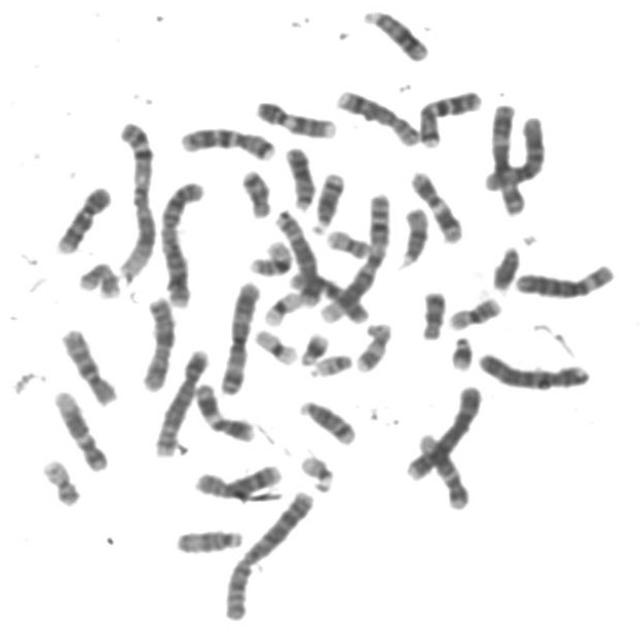A1: (314, 185, 394, 325), (111, 113, 160, 284)
A2: (218, 483, 318, 623), (154, 173, 208, 310)
A3: (214, 274, 264, 396), (485, 96, 528, 217)
B4: (398, 377, 485, 482), (471, 344, 595, 392)
B5: (148, 341, 213, 458), (269, 201, 325, 309)
C10: (55, 320, 120, 407), (284, 265, 372, 325)
C11: (404, 164, 466, 245), (188, 376, 258, 444)
C12: (47, 382, 111, 473), (413, 426, 474, 511)
C6: (478, 108, 548, 193), (508, 256, 618, 301)
C7: (413, 82, 485, 149), (174, 119, 278, 162)
C8: (331, 82, 423, 147), (188, 456, 286, 502)
C9: (50, 179, 115, 255), (250, 93, 340, 139)
D13: (358, 3, 432, 63), (278, 138, 318, 211)
D14: (292, 393, 360, 446), (306, 165, 348, 235)
D15: (394, 200, 432, 269), (170, 522, 247, 555)
E16: (443, 291, 504, 331), (243, 233, 296, 278)
E17: (350, 316, 394, 373), (73, 254, 123, 300)
E18: (236, 162, 274, 219), (415, 283, 449, 342)
F19: (250, 322, 300, 366), (258, 285, 304, 327)
F20: (36, 451, 83, 508), (320, 222, 374, 261)
G21: (294, 325, 333, 366), (444, 329, 476, 373)
G22: (295, 447, 337, 494), (304, 346, 356, 379)
X: (134, 290, 178, 394)
Y: (486, 239, 524, 292)
